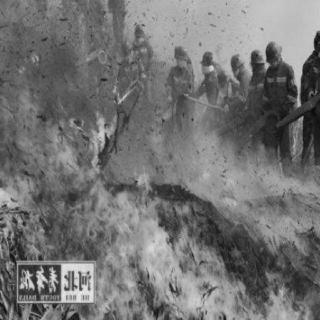Fire: (12, 86, 308, 316)
